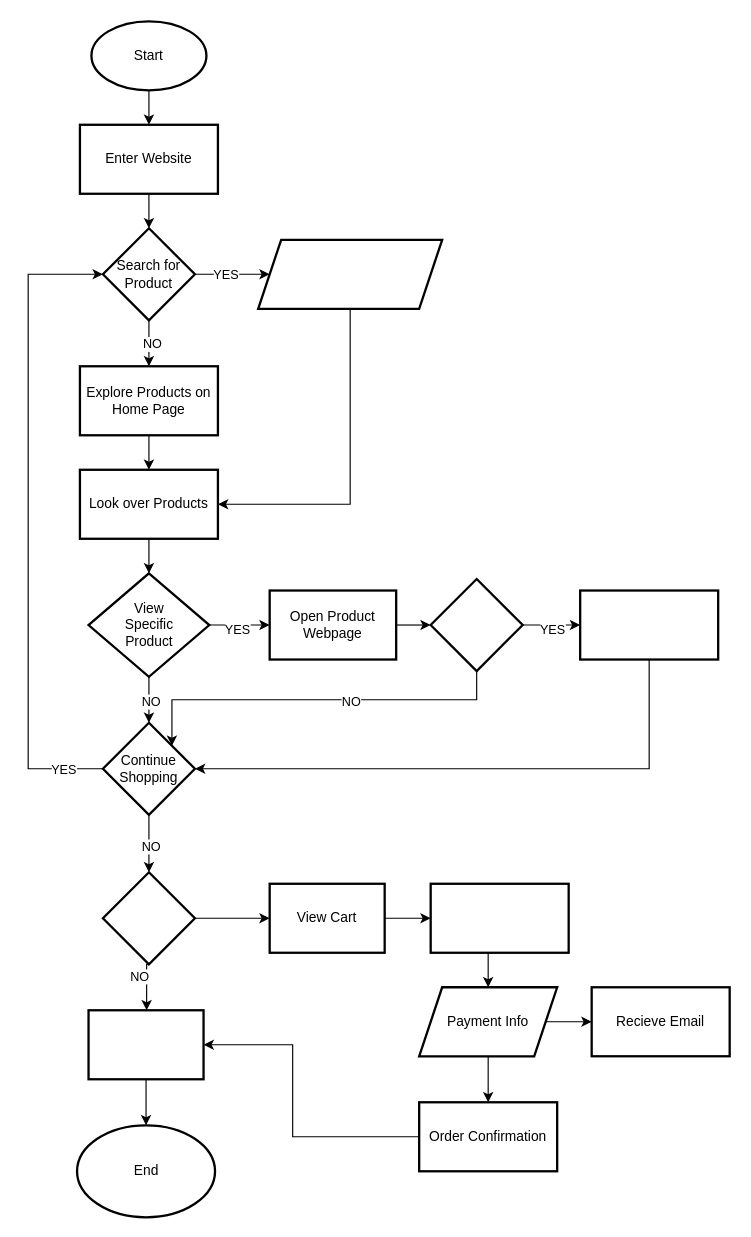
The diagram is 751 pixels wide and 1237 high, and some of its shapes have lost their labels. Here are the shapes that lost their labels. From the top down, the centre of each, then its label:
At (x=349, y=273): "Search for Product by providing input".
At (x=476, y=624): "Add Item to Cart".
At (x=648, y=624): "Added to Cart Confirmation".
At (x=148, y=918): "Checkout".
At (x=499, y=917): "View Payment".
At (x=145, y=1044): "Leave Website".
